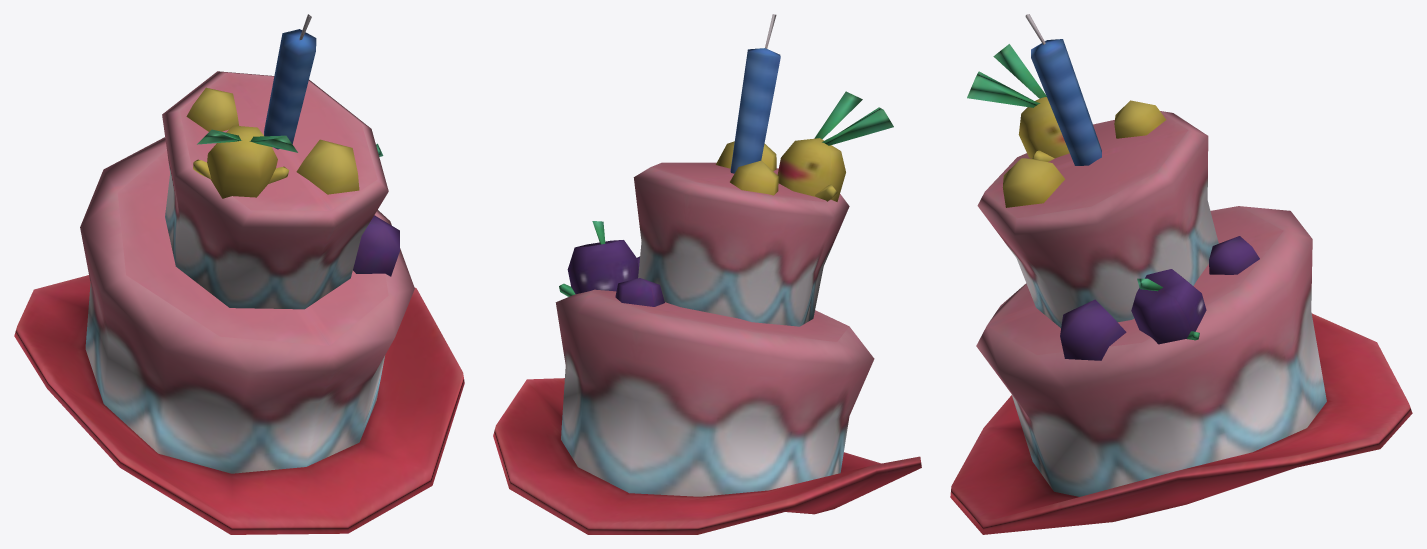
Rendered from cakeHat.glb.
3 views of the same model, side by side, from view 1: azimuth 30°, elevation 25°; view 2: azimuth 150°, elevation 25°; view 3: azimuth 270°, elevation 25° (orthographic). The views are drawn at different scales.
Visible parts, largest first — view 1: cakeHat; view 2: cakeHat; view 3: cakeHat.
Part boxes in pixels (bbox=[...]): cakeHat: bbox=[14, 14, 464, 534]; cakeHat: bbox=[493, 14, 921, 534]; cakeHat: bbox=[950, 14, 1412, 534].
Bounding box in the file's own units: 0.3882 × 0.4905 × 0.425.
Materials: 1 (1 with a texture image).
